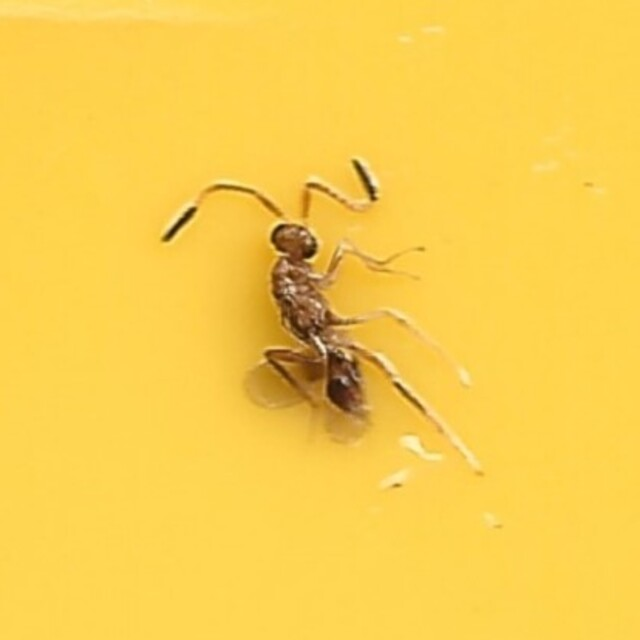Hymenoptera: (155, 159, 485, 481)
